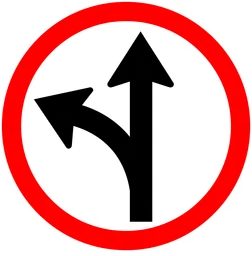Straight or Left Turn Only: (32, 29, 182, 225)
